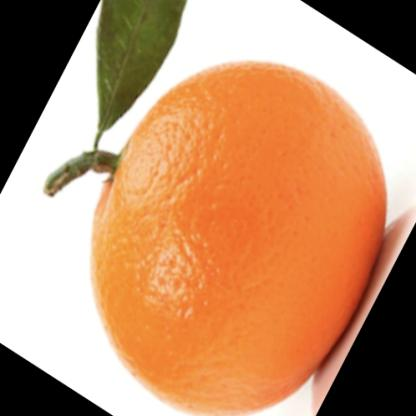fresh: (93, 61, 388, 416)
